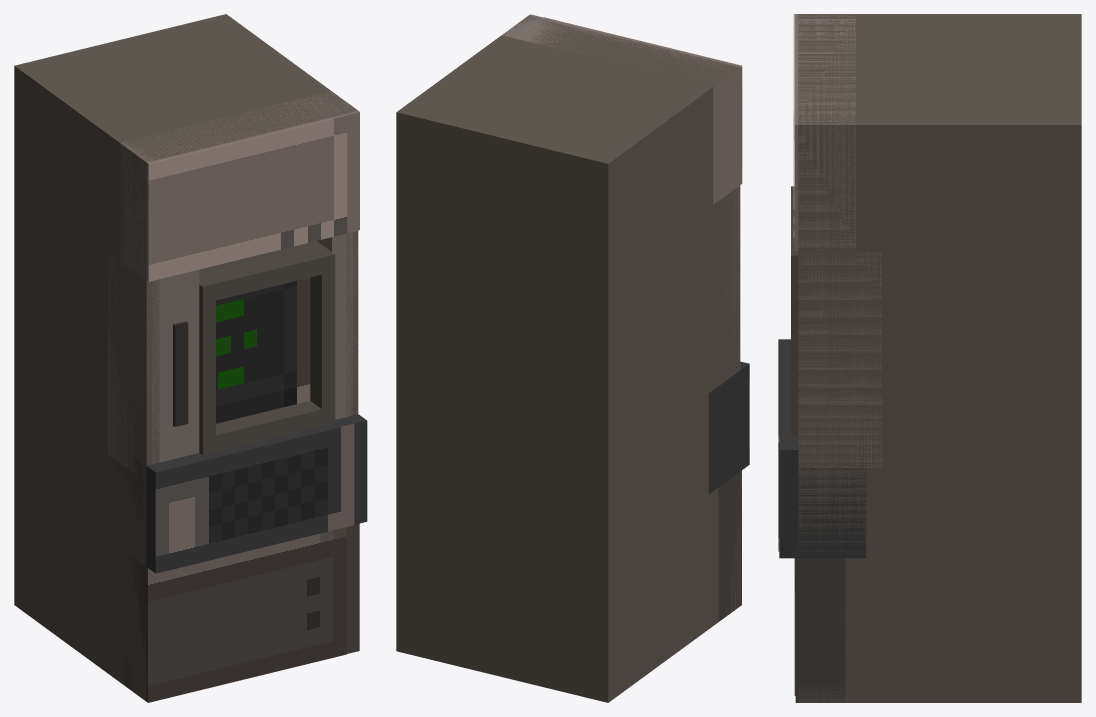
The model's file is CMU3DMissionPlanningCloud.glb.
The picture shows the model from 3 angles, left to right: view 1: azimuth 30°, elevation 25°; view 2: azimuth 150°, elevation 25°; view 3: azimuth 270°, elevation 25°; orthographic projection. The views are drawn at different scales.
Visible parts, largest first — view 1: full depth left chassis, lower service cabinet original face, tall blank upper sign original face, cabinet roof, lower control and grille original face, mid console left side, small planning CRT recessed inset original face, tall blank upper sign, lower control and grille, small planning CRT upper frame, full depth right chassis, mid console right side (+6 smaller); view 2: rear cabinet wall, full depth left chassis, cabinet roof, full depth right chassis, tall blank upper sign, lower control and grille, lower service cabinet, mid console left side; view 3: full depth right chassis, cabinet roof, mid console right side, tall blank upper sign, lower control and grille, lower service cabinet, full depth left chassis, rear cabinet wall, small planning CRT right frame.
Part boxes in pixels (box(x1,y1,x2,y2)): full depth left chassis: box(14, 62, 159, 701); lower service cabinet original face: box(147, 527, 346, 702); tall blank upper sign original face: box(148, 115, 347, 281); cabinet roof: box(36, 23, 344, 158); lower control and grille original face: box(155, 424, 354, 573); mid console left side: box(107, 252, 199, 478); small planning CRT recessed inset original face: box(216, 277, 310, 423); tall blank upper sign: box(119, 91, 359, 281); lower control and grille: box(114, 414, 367, 572); small planning CRT upper frame: box(199, 241, 335, 303); full depth right chassis: box(213, 14, 358, 416); mid console right side: box(317, 231, 358, 419); rear cabinet wall: box(409, 109, 602, 699); full depth left chassis: box(595, 64, 740, 702); cabinet roof: box(418, 19, 726, 154); full depth right chassis: box(396, 15, 540, 654); tall blank upper sign: box(502, 14, 741, 204); lower control and grille: box(708, 362, 748, 494); lower service cabinet: box(718, 471, 741, 621); mid console left side: box(721, 186, 740, 366); full depth right chassis: box(798, 118, 1081, 702); cabinet roof: box(798, 21, 1062, 117); mid console right side: box(798, 251, 881, 467); tall blank upper sign: box(794, 14, 855, 251); lower control and grille: box(779, 339, 866, 558); lower service cabinet: box(795, 558, 845, 702); full depth left chassis: box(798, 14, 1081, 20); rear cabinet wall: box(1063, 21, 1081, 117); small planning CRT right frame: box(791, 273, 798, 417).
Size of the model in its own units: 0.5 by 1.22 by 0.5776.
Materials: 12 (4 with a texture image).
